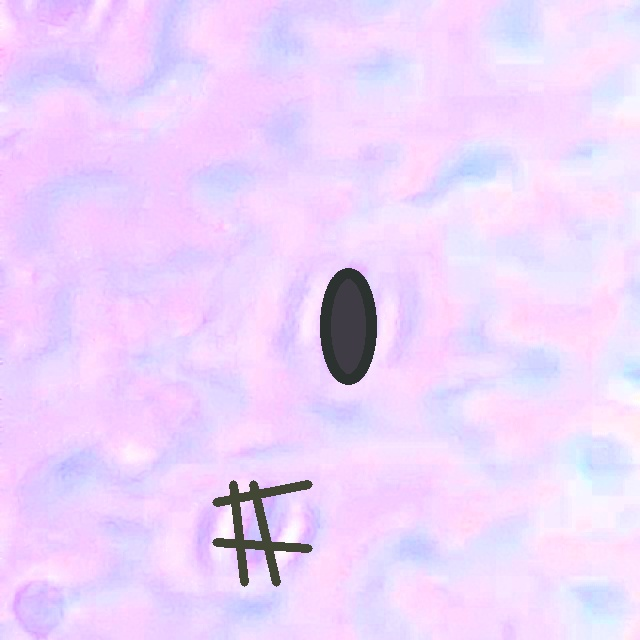open: (212, 481, 312, 586), (319, 268, 377, 384)
